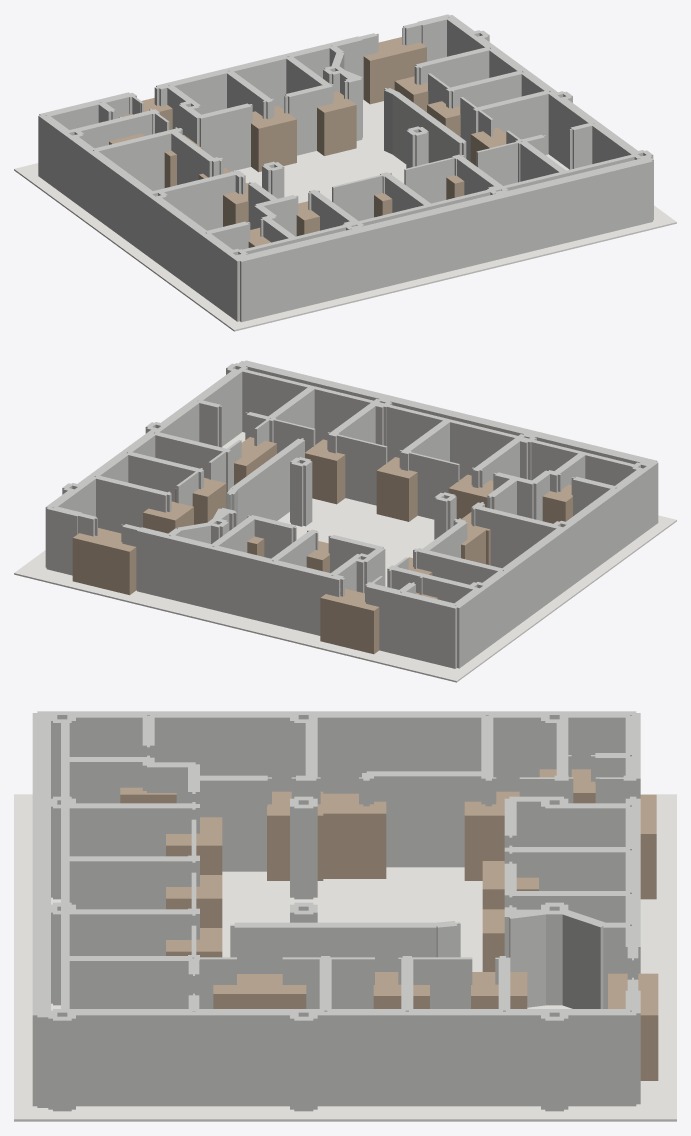
3 renders of one model, top to bottom at view 1: azimuth 30°, elevation 25°; view 2: azimuth 150°, elevation 25°; view 3: azimuth 270°, elevation 25°, orthographic. The views are drawn at different scales.
Visible parts, largest first — view 1: DxfFloorplanScene; view 2: DxfFloorplanScene; view 3: DxfFloorplanScene.
Boxes of the visible parts, x1,y1,x2,y2 form: DxfFloorplanScene: (14, 14, 676, 331); DxfFloorplanScene: (14, 360, 676, 682); DxfFloorplanScene: (14, 711, 676, 1121).
Size of the model in its own units: 24.53 by 3.28 by 21.14.
